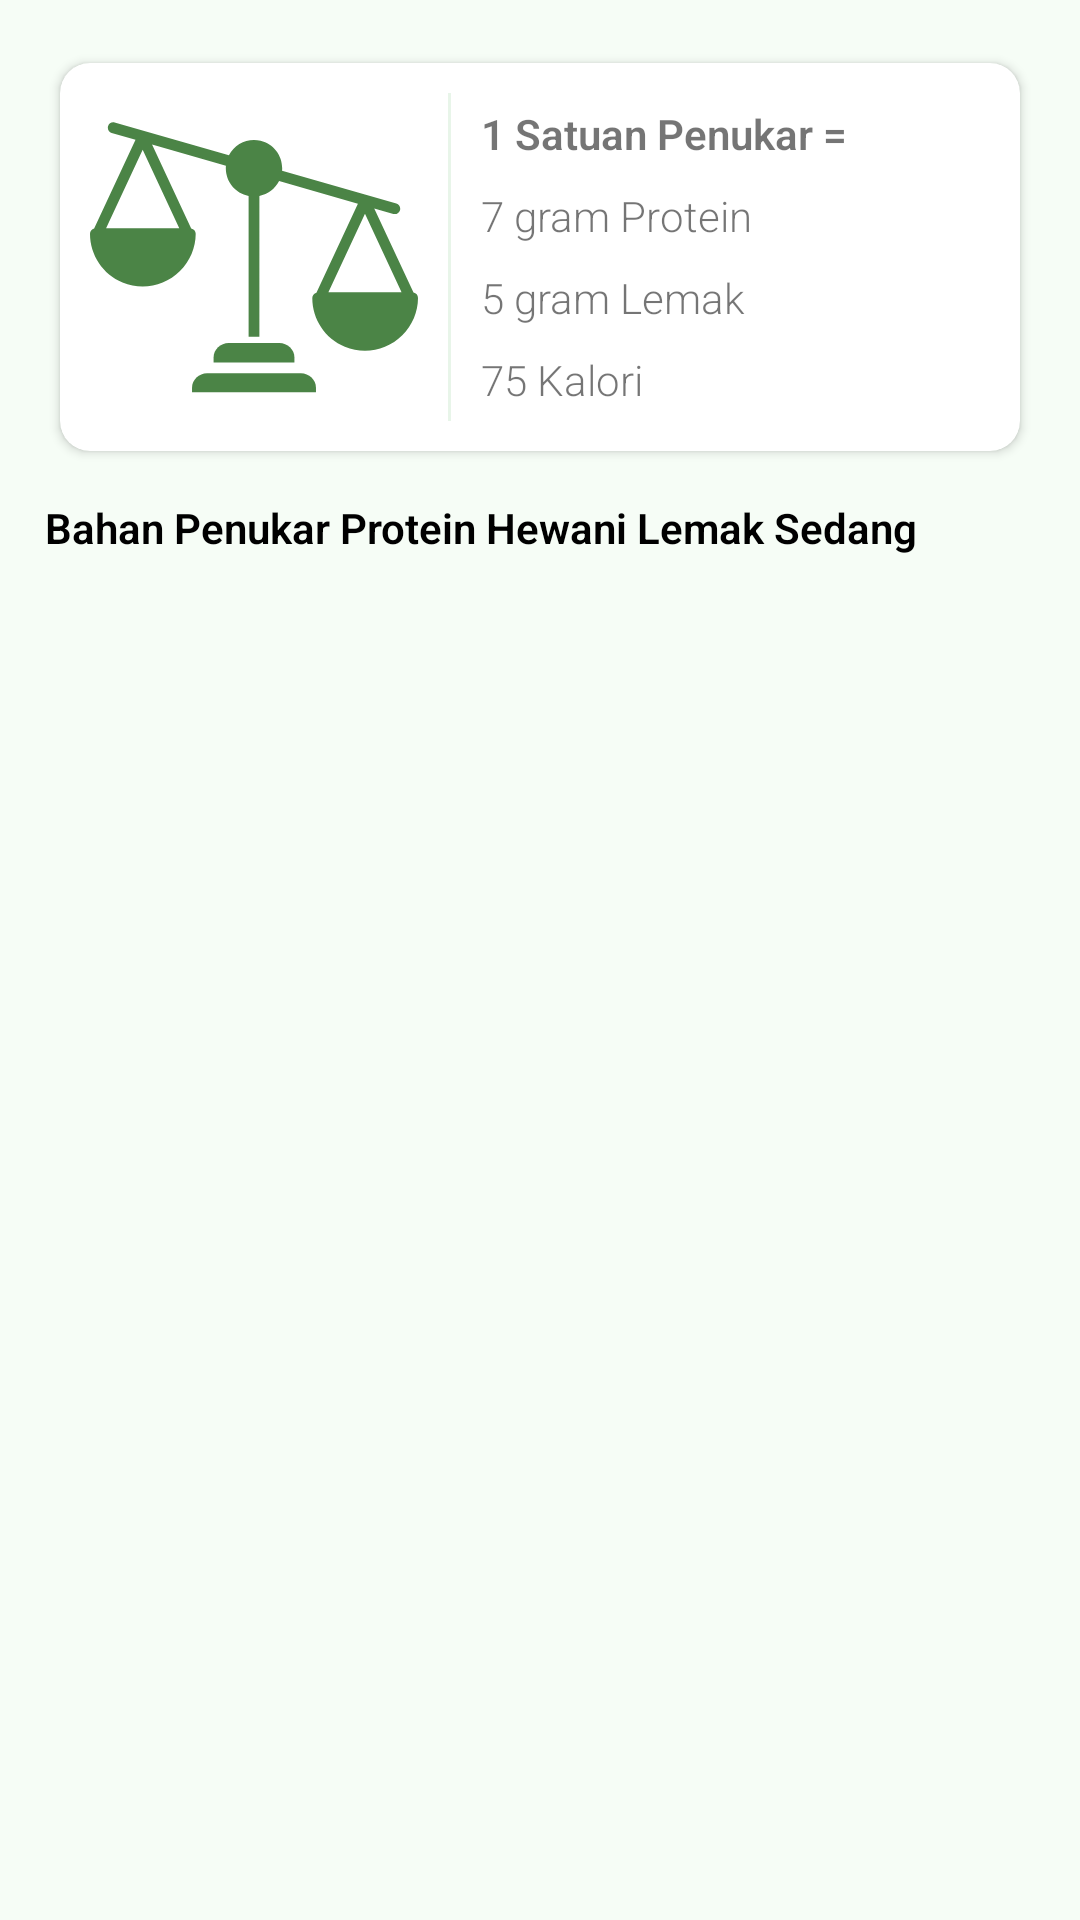

Point at icon controls on the screen. Image size 1080w x 1920h, points as point (x, y).
balance: point (254, 257)
